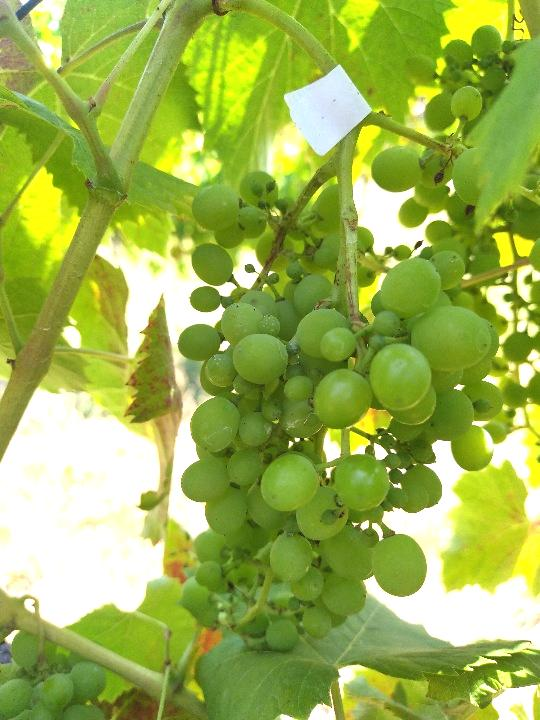grape: (164, 82, 510, 654)
